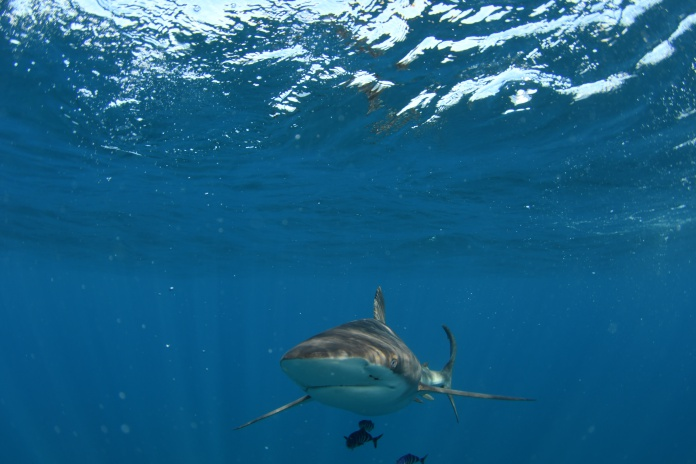Sedoso: (226, 281, 551, 445)
